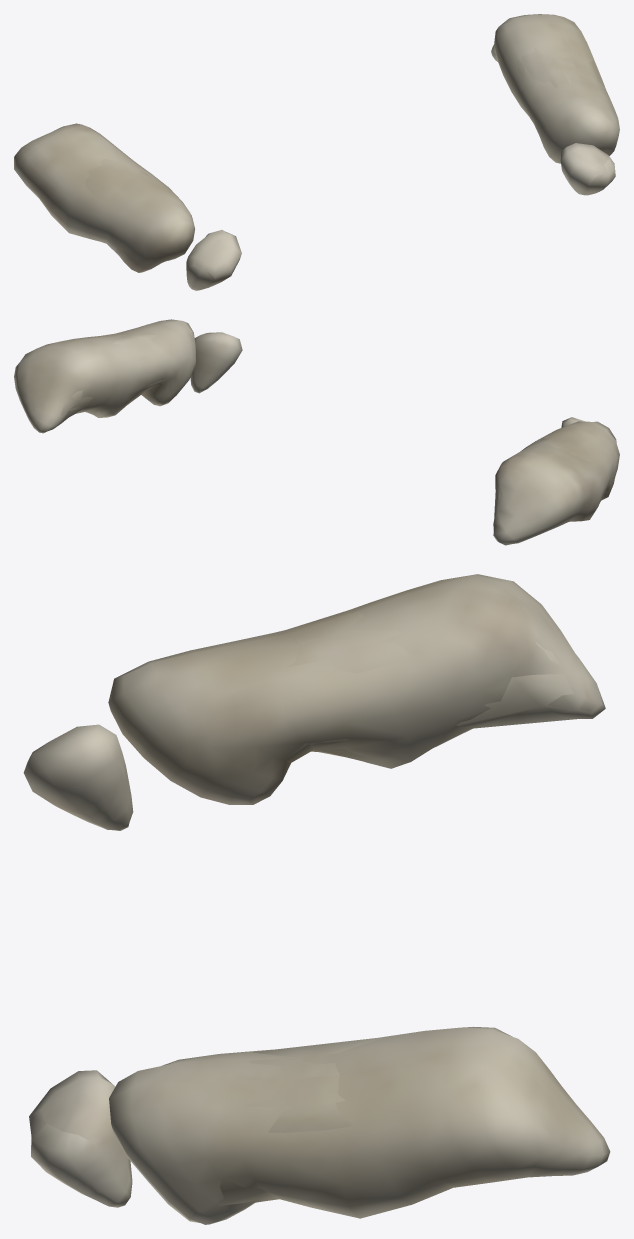
Rendered from Teeth Upper.fbx.
The picture shows the model from 3 angles, top to bottom: view 1: azimuth 30°, elevation 25°; view 2: azimuth 150°, elevation 25°; view 3: azimuth 270°, elevation 25°; orthographic projection. The views are drawn at different scales.
Visible parts, largest first — view 1: Teeth Upper, Teeth Upper low; view 2: Teeth Upper, Teeth Upper low; view 3: Teeth Upper, Teeth Upper low.
Boxes of the visible parts, box(x1,y1,x2,y2) form: Teeth Upper: box(14, 14, 619, 290); Teeth Upper low: box(40, 45, 603, 256); Teeth Upper: box(14, 319, 619, 545); Teeth Upper low: box(61, 325, 609, 533); Teeth Upper: box(23, 574, 610, 1224); Teeth Upper low: box(120, 608, 595, 1206).
Bounding box in the file's own units: 2.36 × 0.4159 × 1.08.
1 material, 1 textured.
